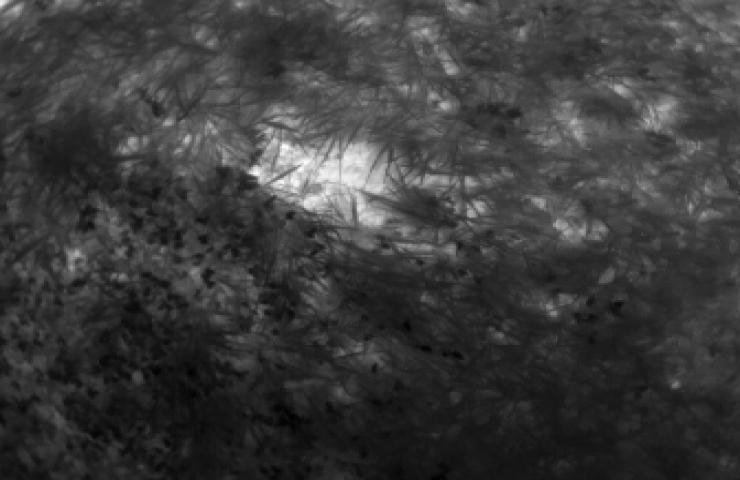landmines: (251, 107, 410, 239)
